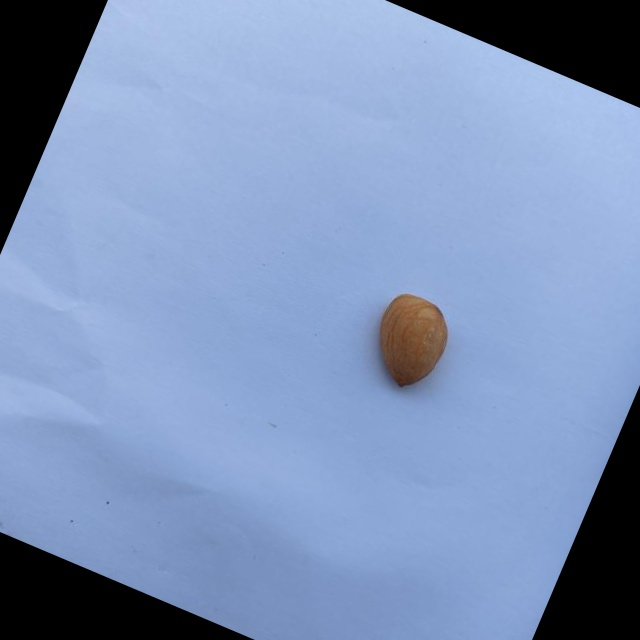grade2: (353, 281, 464, 401)
